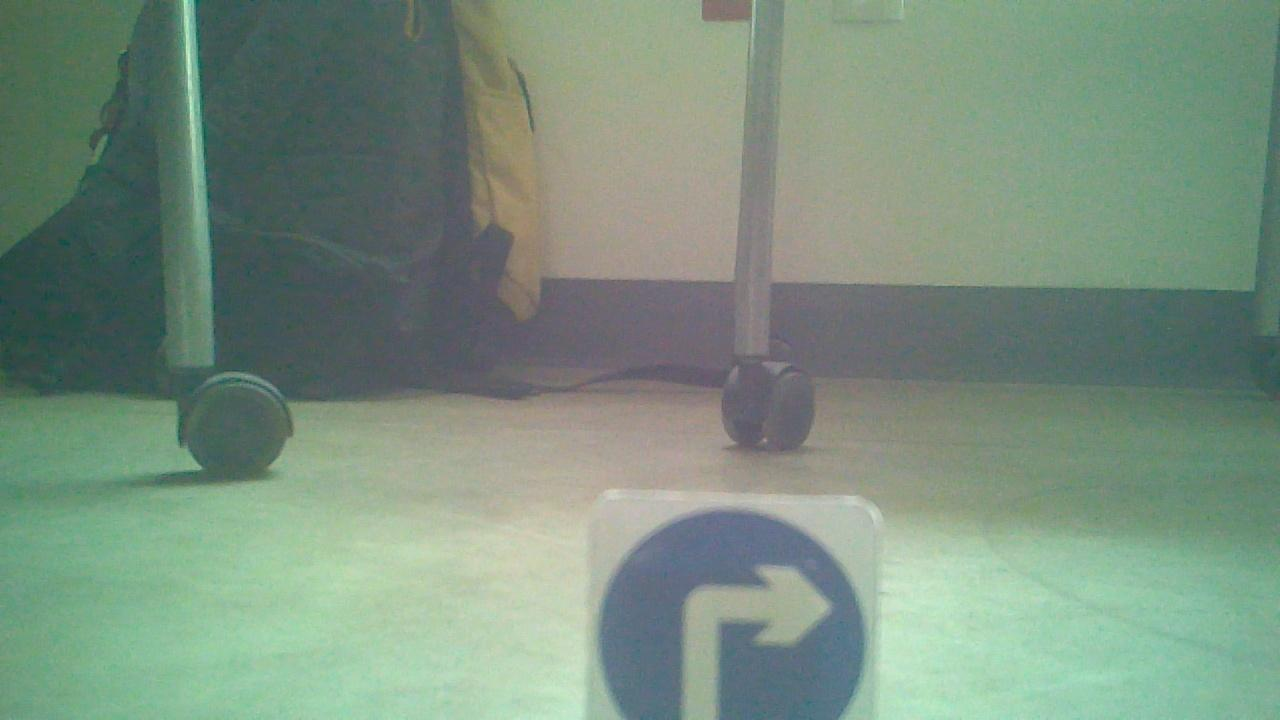turn: (589, 500, 875, 720)
